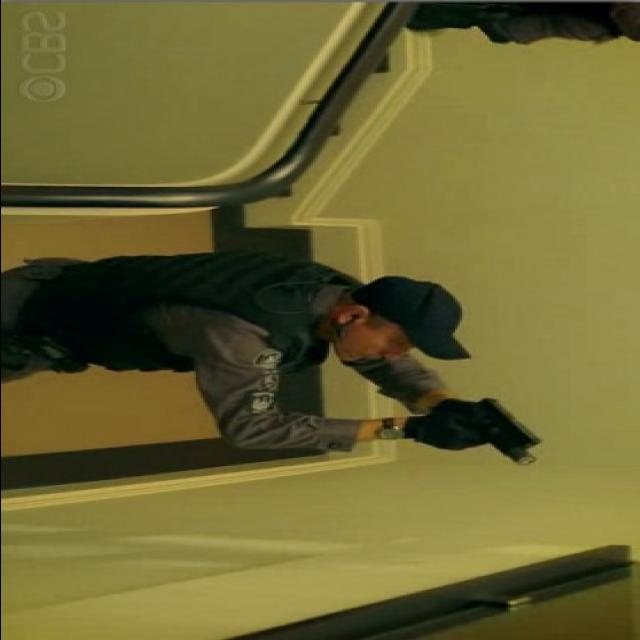weapons: (396, 387, 582, 478)
